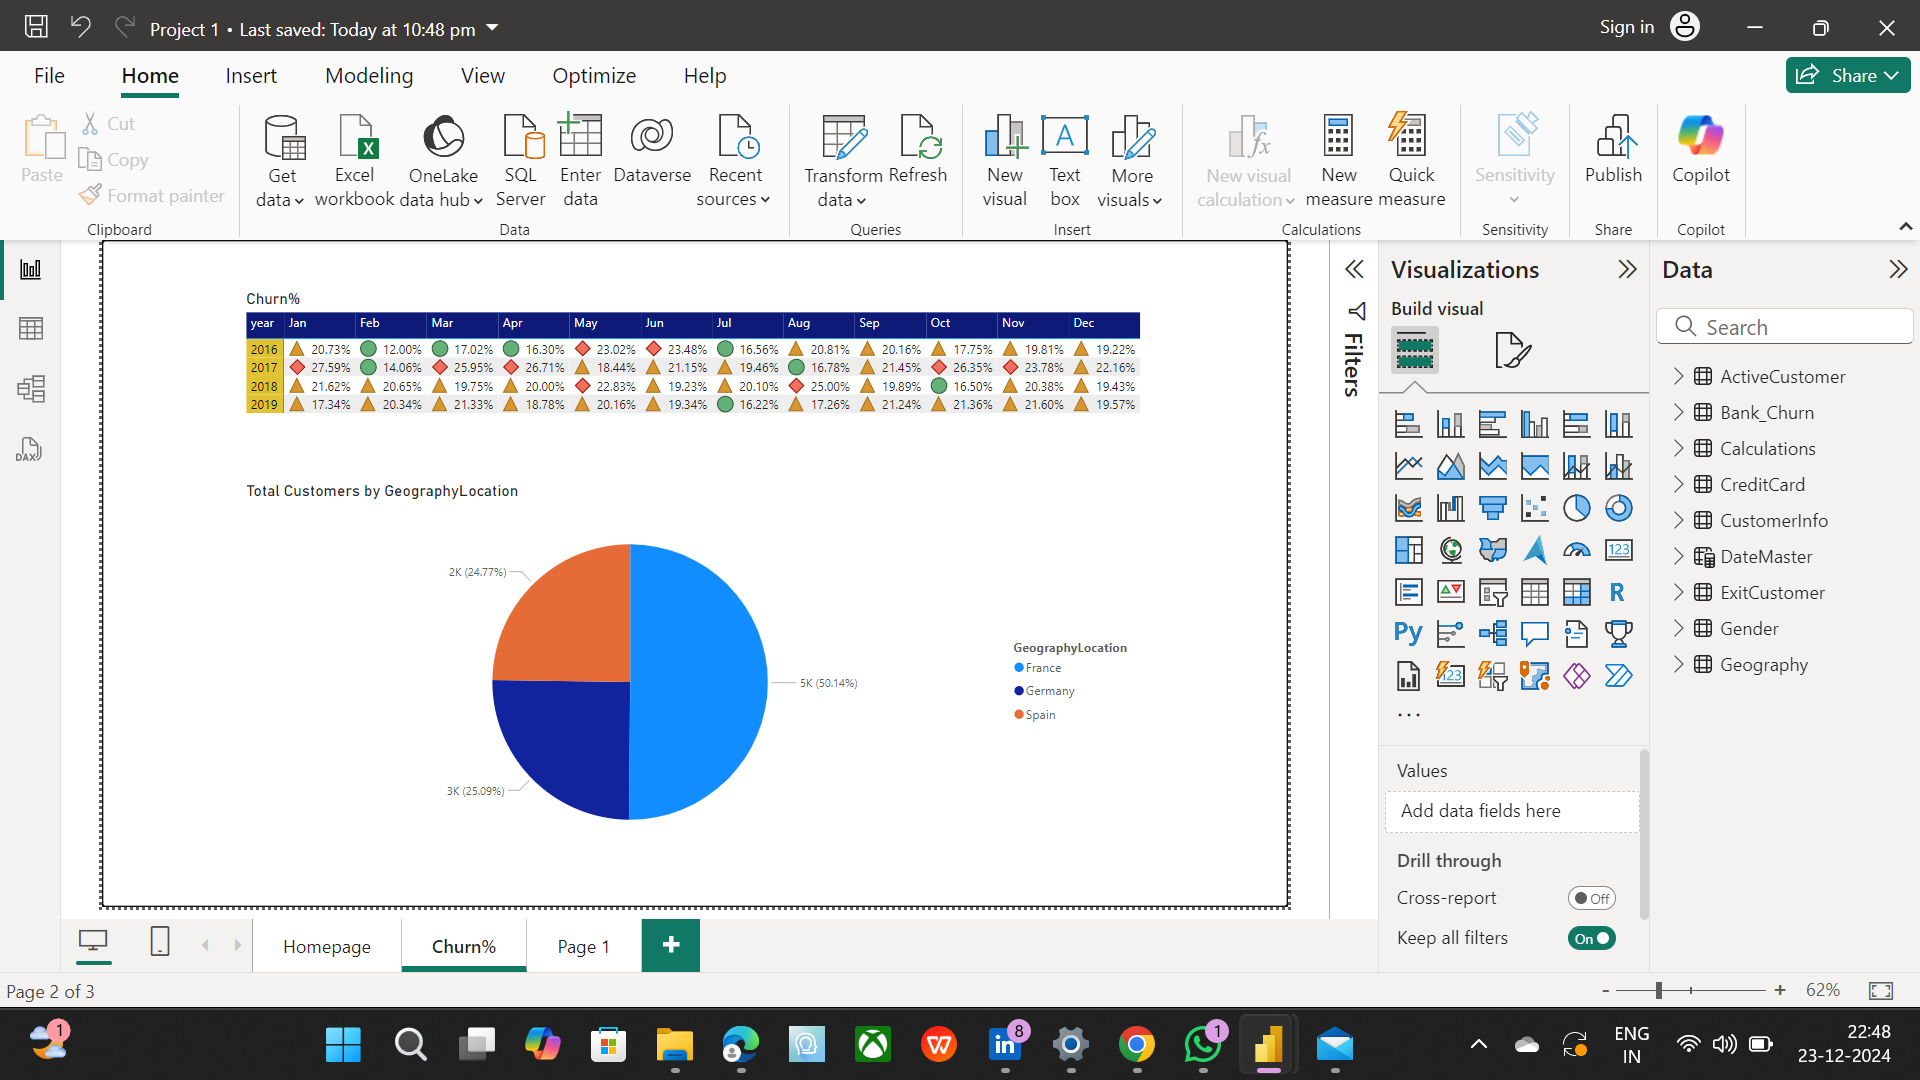

The page's visual inventory and layout, read from the dashboard file:
{"tool":"powerbi","page":{"name":"Churn%","canvas":[1280,720],"ordinal":1},"visuals":[{"type":"pivotTable","title":"Churn%","fields":{"Rows":["DateMaster.year"],"Columns":["DateMaster.Month Name"],"Values":["Calculations.Chun %"]},"box":[150.6,53.4,976.4,152.2],"z":0},{"type":"pieChart","fields":{"Category":["Geography.GeographyLocation"],"Y":["Calculations.Total Customers"]},"box":[150.6,260.7,976.4,412.9],"z":1000}]}

Visuals, with their boxes on the page's 1280x720 design canvas (x1, y1, x2, y2). These are canvas units, not pixel positions in the 1920x1080 screenshot, which may show the page scaled, cropped or inside an application window:
"Churn%" pivotTable: box=[151, 53, 1127, 206]
pieChart - Geography.GeographyLocation x Calculations.Total Customers: box=[151, 261, 1127, 674]
